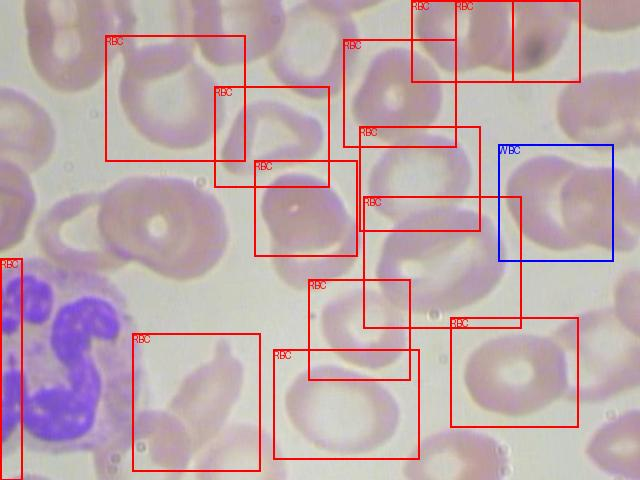RBC: (363, 196, 521, 328), (132, 333, 260, 471), (105, 35, 245, 161), (273, 349, 419, 459), (450, 317, 578, 427), (359, 126, 480, 231), (343, 39, 456, 147), (214, 86, 329, 187), (308, 279, 410, 380), (455, 0, 580, 82), (254, 160, 357, 256), (411, 0, 513, 82), (0, 258, 22, 480)
WBC: (498, 144, 613, 261)
